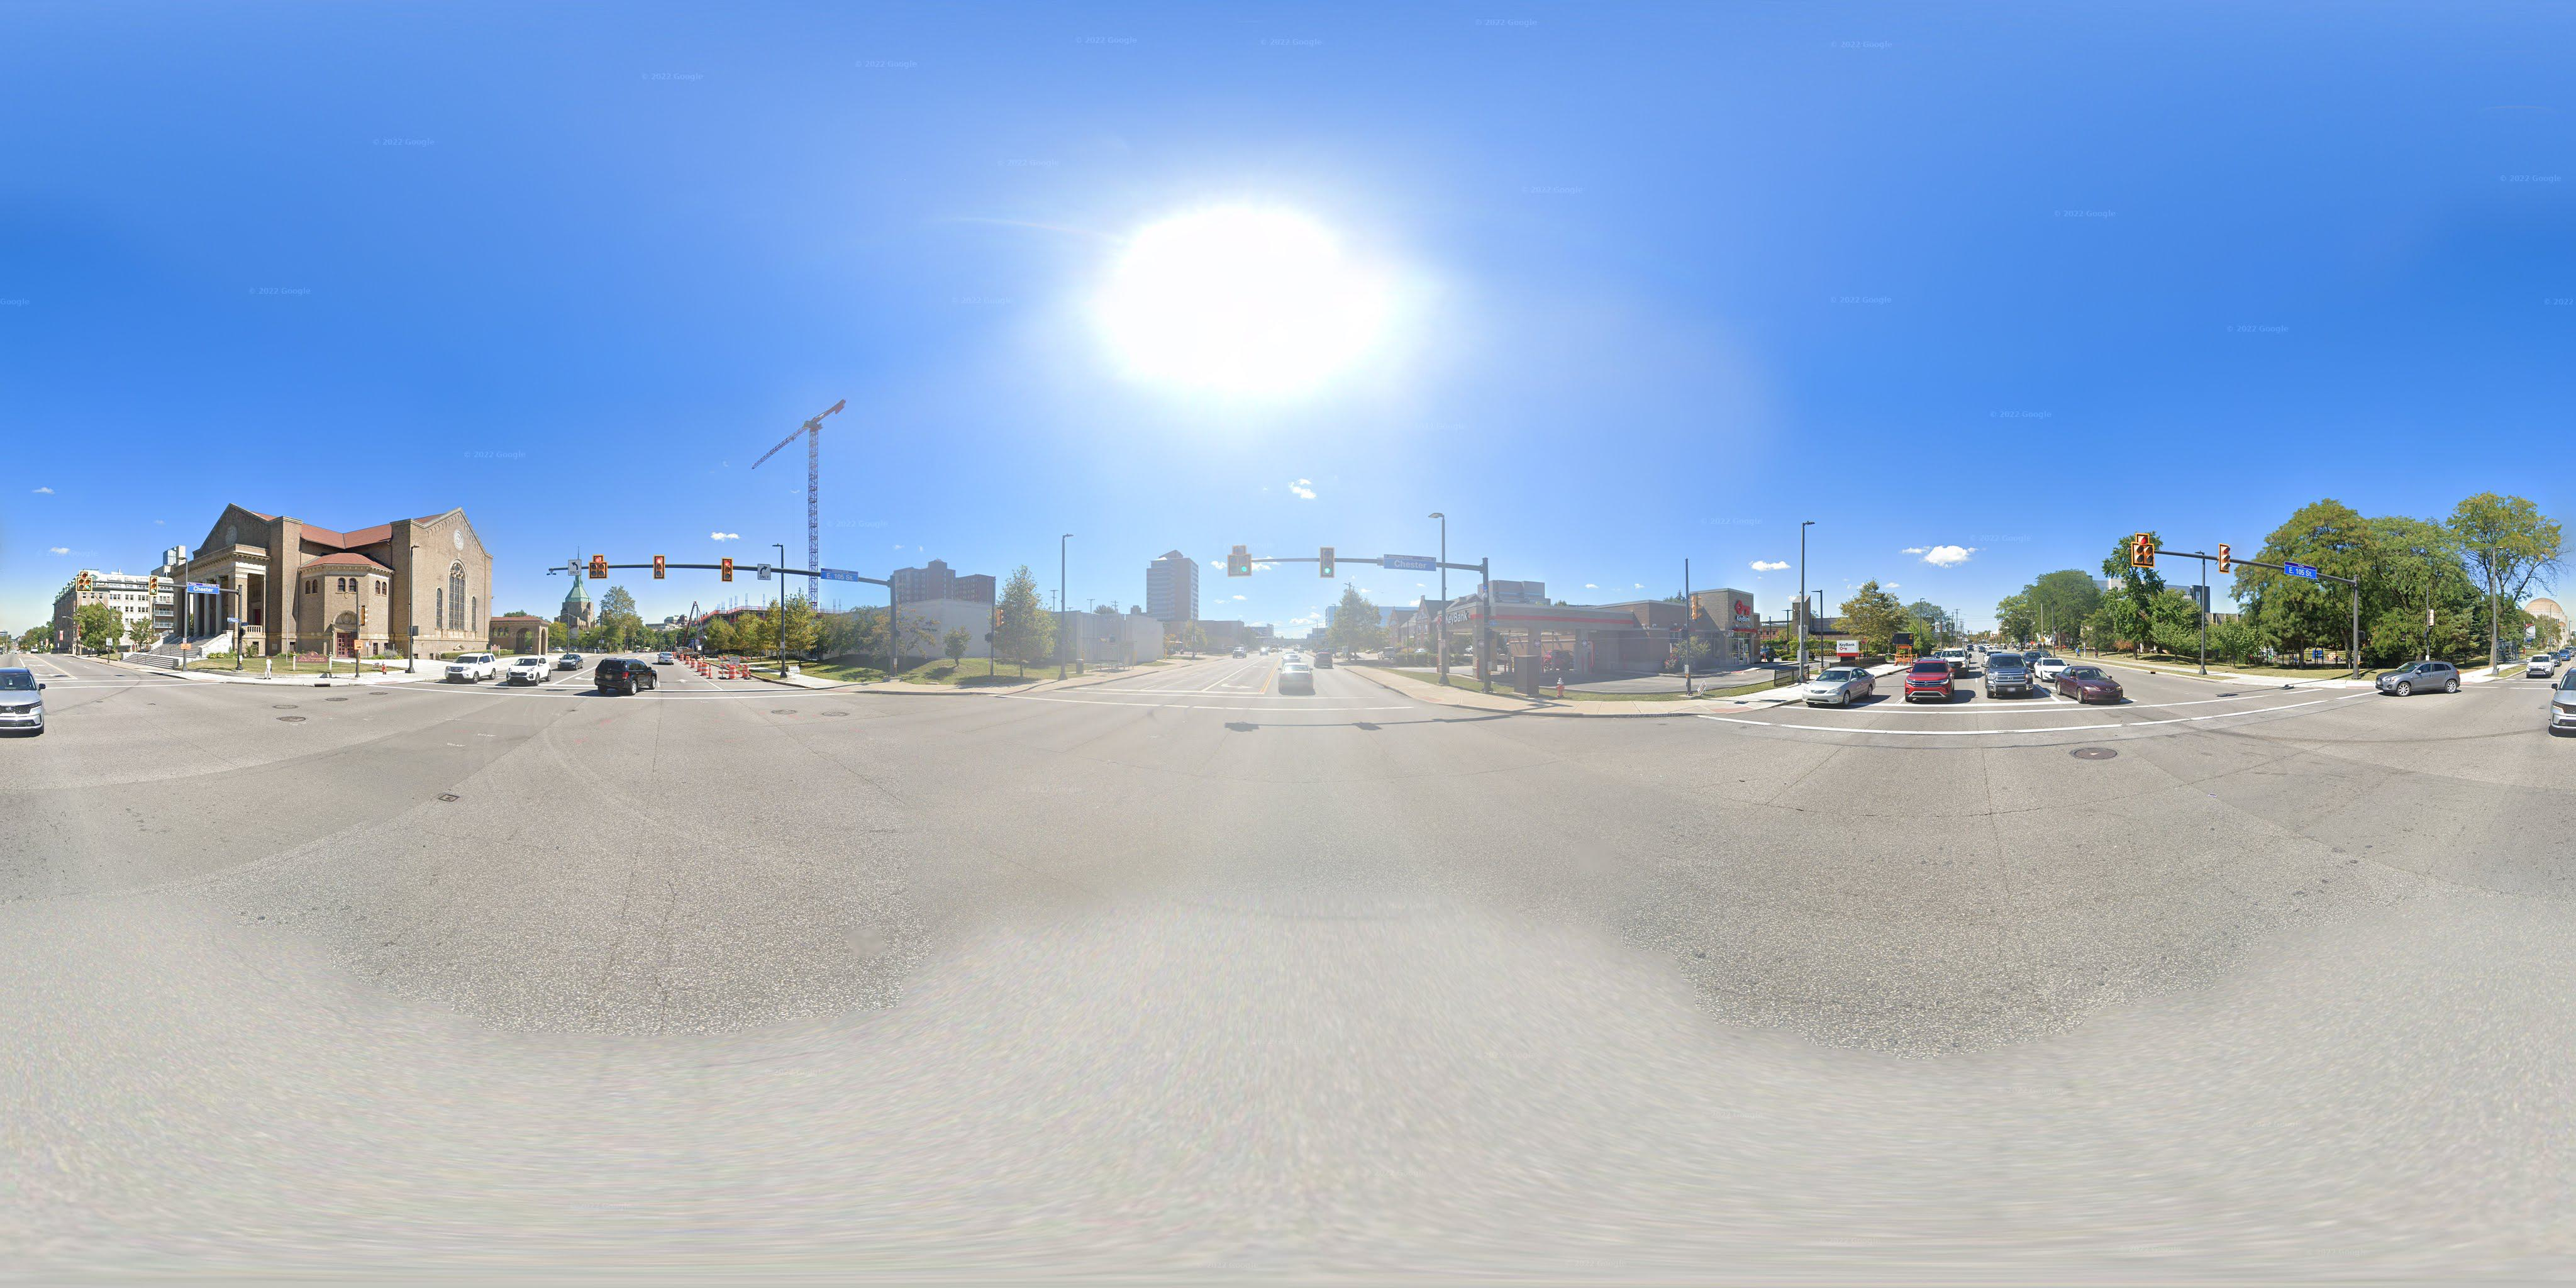Curb Ramp: (1713, 705, 1753, 720), (1005, 683, 1053, 695), (1414, 690, 1441, 705), (2338, 682, 2377, 690), (375, 677, 402, 685), (828, 683, 848, 693), (195, 675, 222, 682), (2458, 678, 2476, 685)
